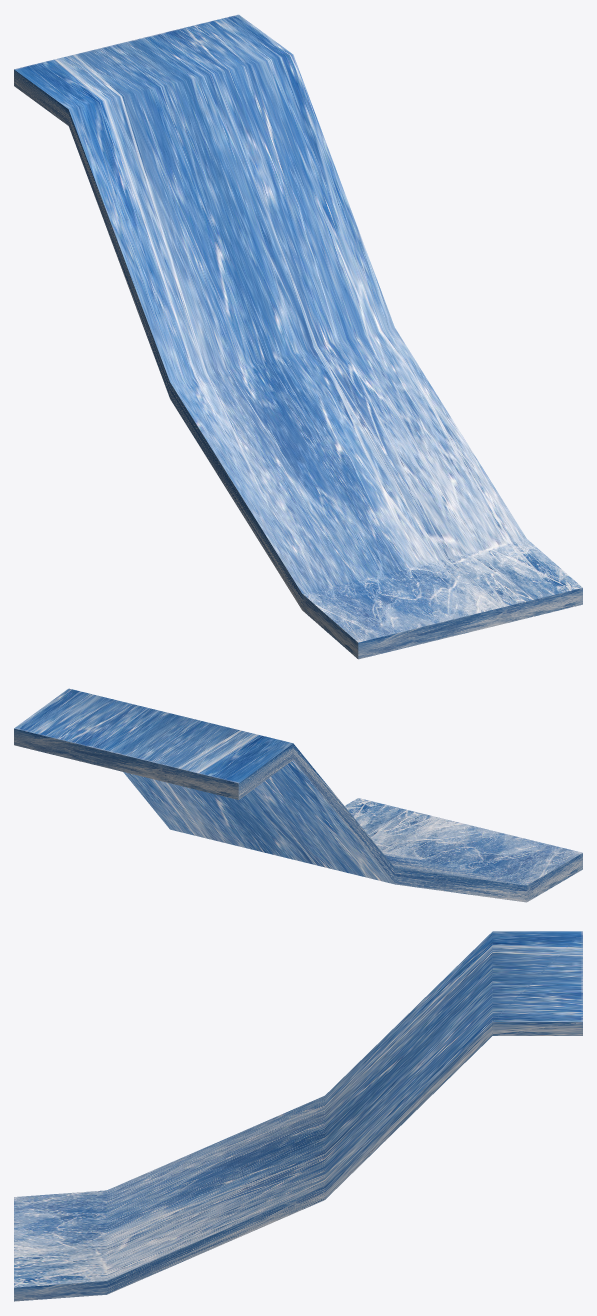
Rendered from iceslide.FBX.
3 renders of one model, top to bottom at view 1: azimuth 30°, elevation 25°; view 2: azimuth 150°, elevation 25°; view 3: azimuth 270°, elevation 25°, orthographic. The views are drawn at different scales.
Parts seen in each view (by area): view 1: Box001; view 2: Box001; view 3: Box001.
Boxes of the visible parts, x1,y1,x2,y2 form: Box001: (14, 14, 582, 659); Box001: (14, 688, 582, 902); Box001: (14, 931, 582, 1301).
Size of the model in its own units: 1001 by 1439 by 2655.
Materials: 1 (1 with a texture image).
